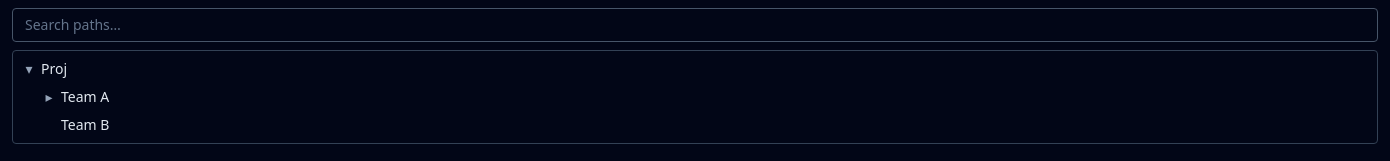
Test: PathTree › says so when nothing matches
In the search field named "Search Area path": {"x": 695, "y": 25} [12,8,1378,42], type "zzz"
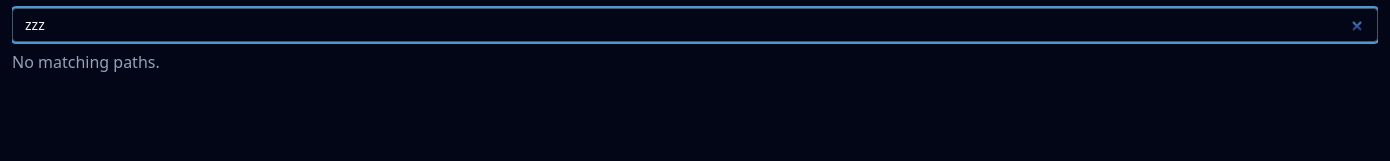
Result: the text "No matching paths." is shown at [12,51,160,73]
